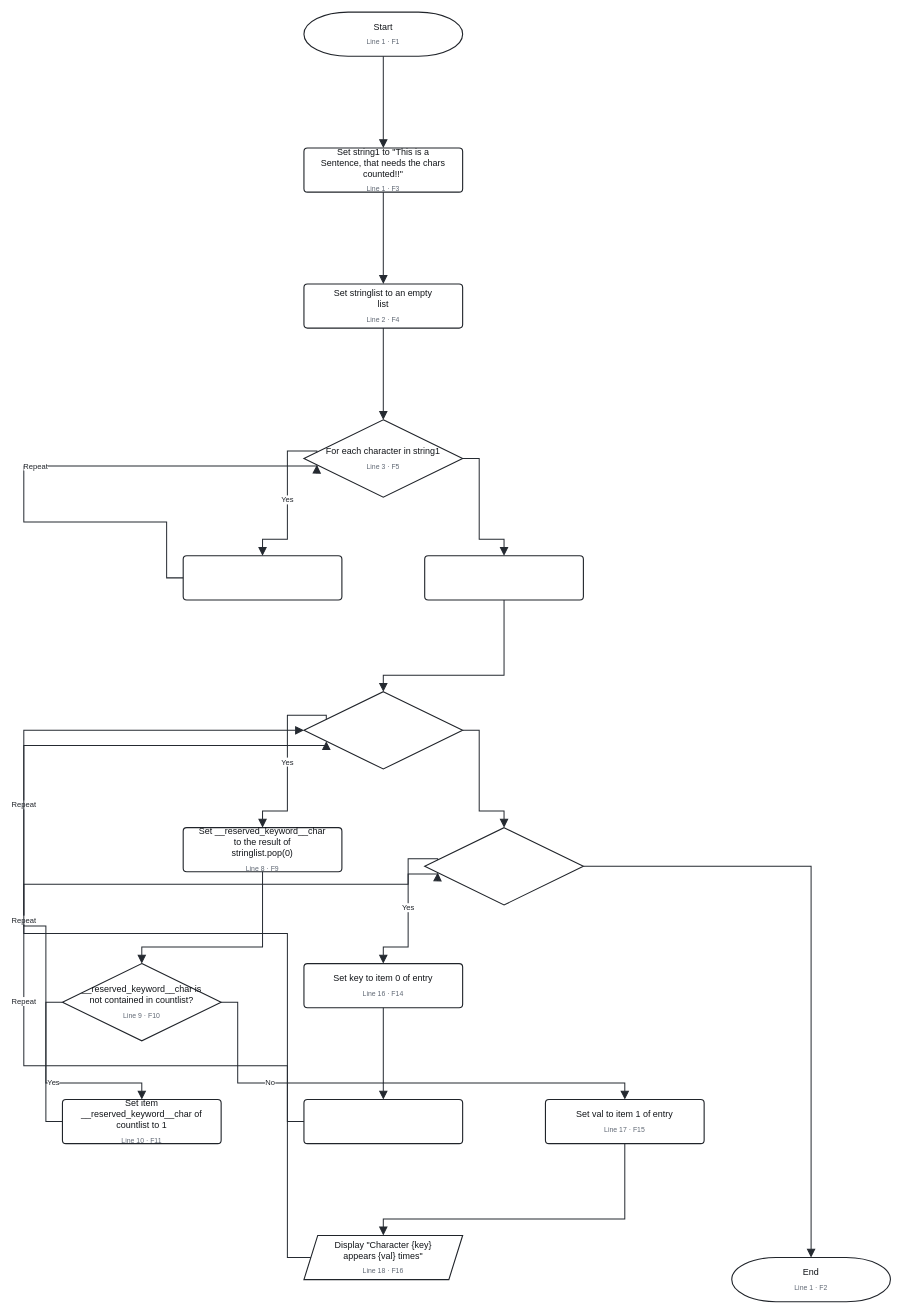
This 903x1314 diagram has some shape labels left out. Here are the shapes that lost their labels. From the top down, the centre of each, then its label:
point 262,577: Append character to stringlist Line 4 · F6
point 504,577: Set countlist to an empty dictionary Line 6 · F7
point 383,730: The length of stringlist is greater than 0? Line 7 · F8
point 504,866: For each entry in the result of countlist.items() Line 15 · F13
point 383,1121: Set item __reserved_keyword__char of countlist to item Line 12 · F12
